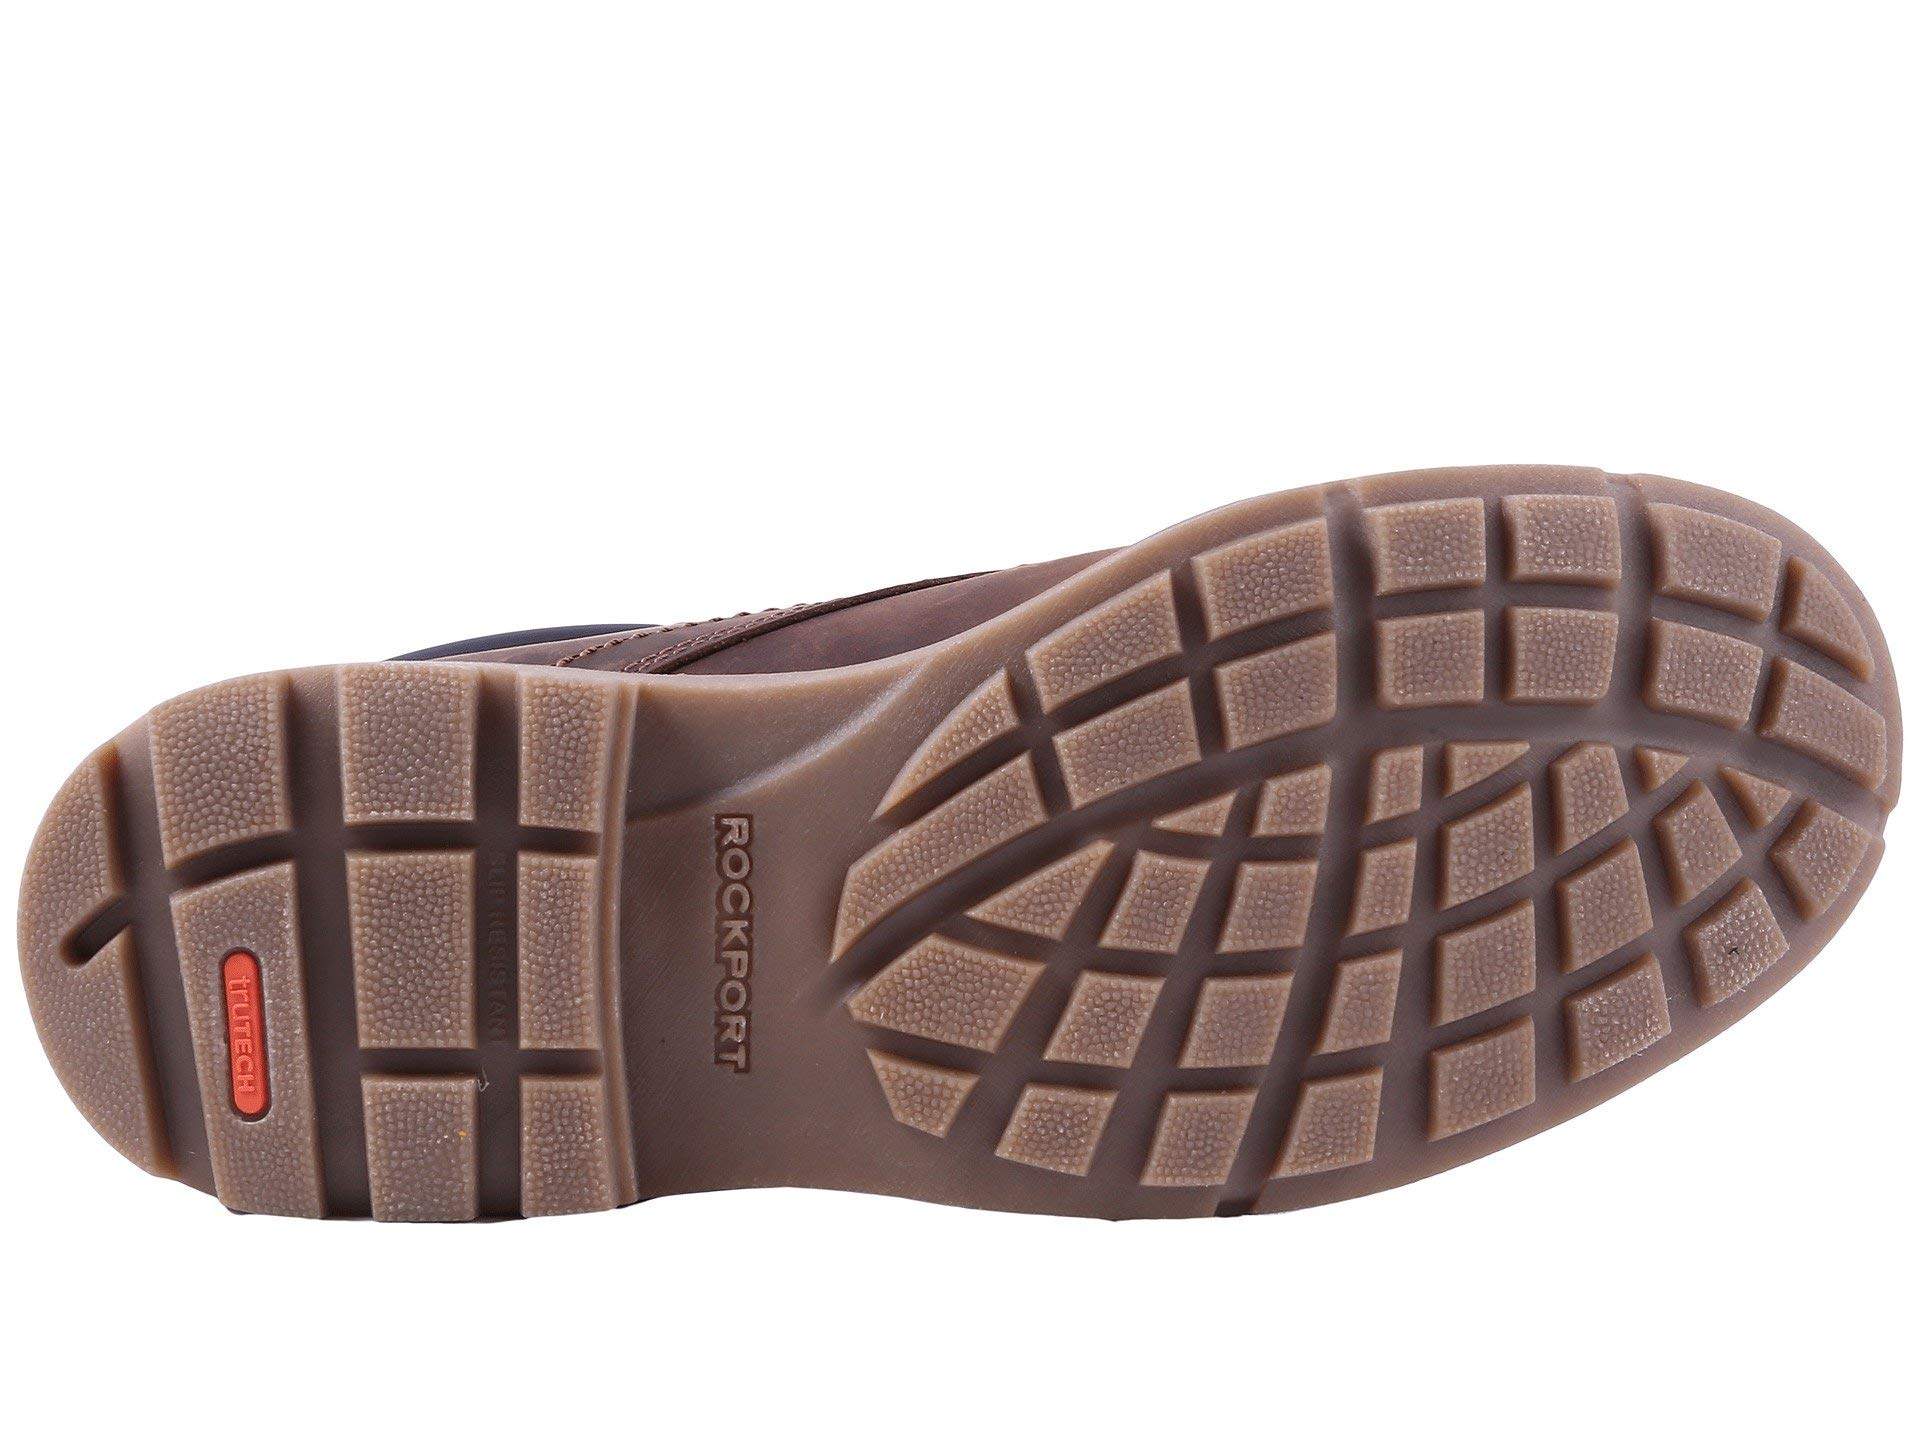quad: (1400, 911, 1695, 1187), (1593, 573, 1866, 859), (324, 836, 627, 1069), (1359, 688, 1562, 892), (206, 936, 308, 1148)
text: (688, 790, 779, 1091), (206, 936, 308, 1148)
triangle: (1593, 573, 1866, 859), (1359, 688, 1562, 892)
